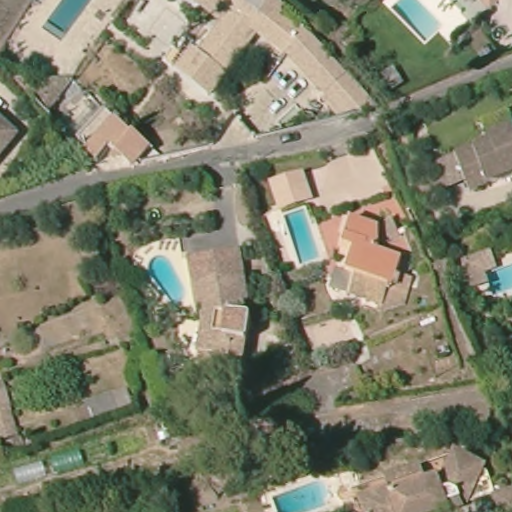pool: (141, 250, 188, 313), (281, 206, 326, 265), (387, 1, 444, 46), (269, 477, 337, 512), (40, 1, 92, 40), (483, 260, 512, 301)
